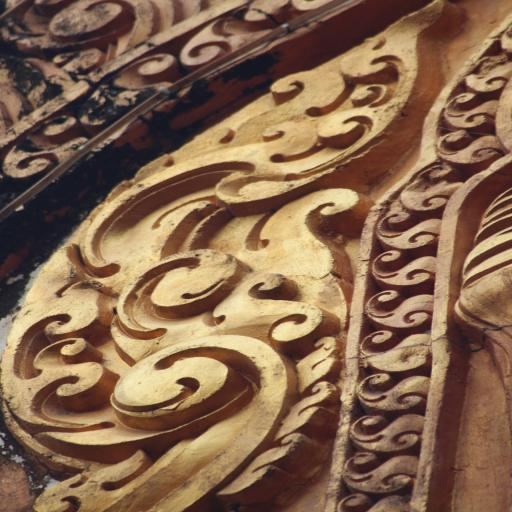lua: (0, 26, 430, 512), (338, 456, 416, 496), (346, 412, 420, 452), (361, 331, 433, 370), (440, 123, 501, 168), (364, 289, 434, 328), (374, 209, 442, 249), (359, 373, 430, 411), (369, 249, 438, 286), (401, 168, 458, 210), (447, 93, 494, 130), (467, 58, 508, 93)
